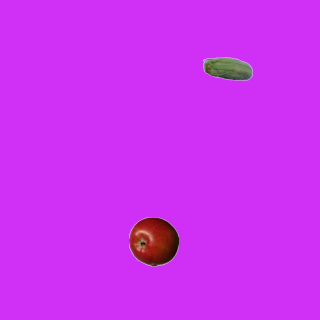Apple Braeburn: (128, 216, 178, 266)
Corn Husk: (202, 45, 252, 95)
